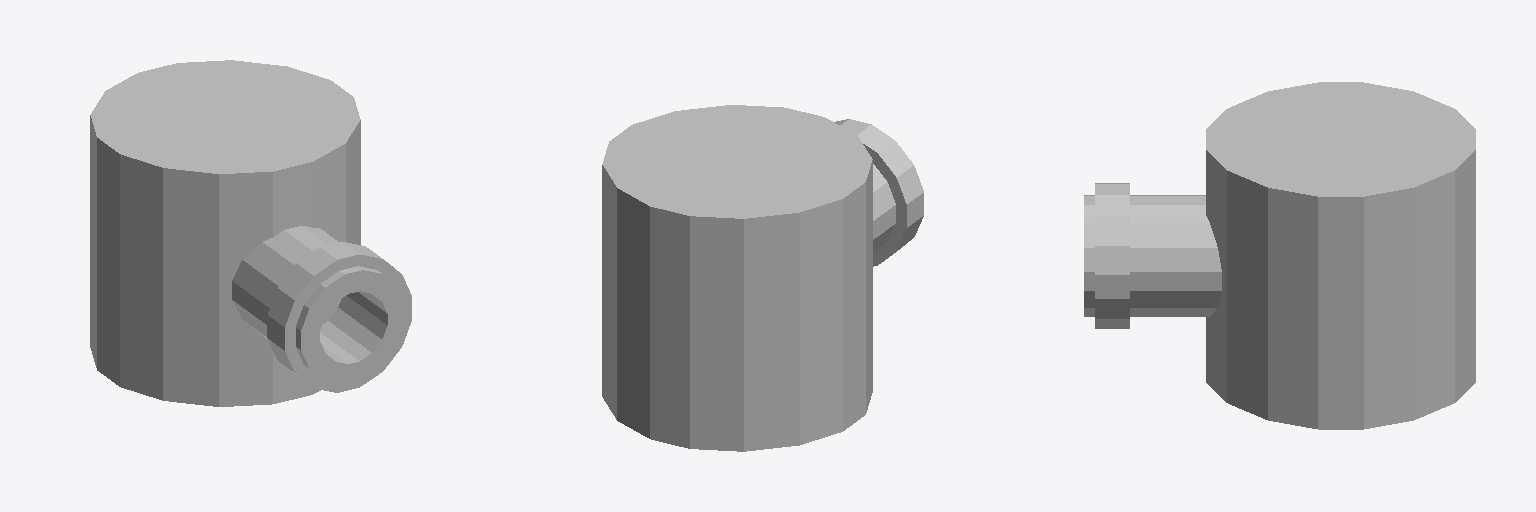
The model's file is BulletDeploy02.obj.
The picture shows the model from 3 angles: view 1: azimuth 30°, elevation 25°; view 2: azimuth 150°, elevation 25°; view 3: azimuth 270°, elevation 25°; orthographic projection.
Visible parts, largest first — view 1: BulletDeploy02; view 2: BulletDeploy02; view 3: BulletDeploy02.
Boxes of the visible parts, x1,y1,x2,y2 form: BulletDeploy02: [90, 60, 411, 406]; BulletDeploy02: [602, 105, 923, 451]; BulletDeploy02: [1084, 82, 1475, 429].
Size of the model in its own units: 1.05 by 1 by 1.53.